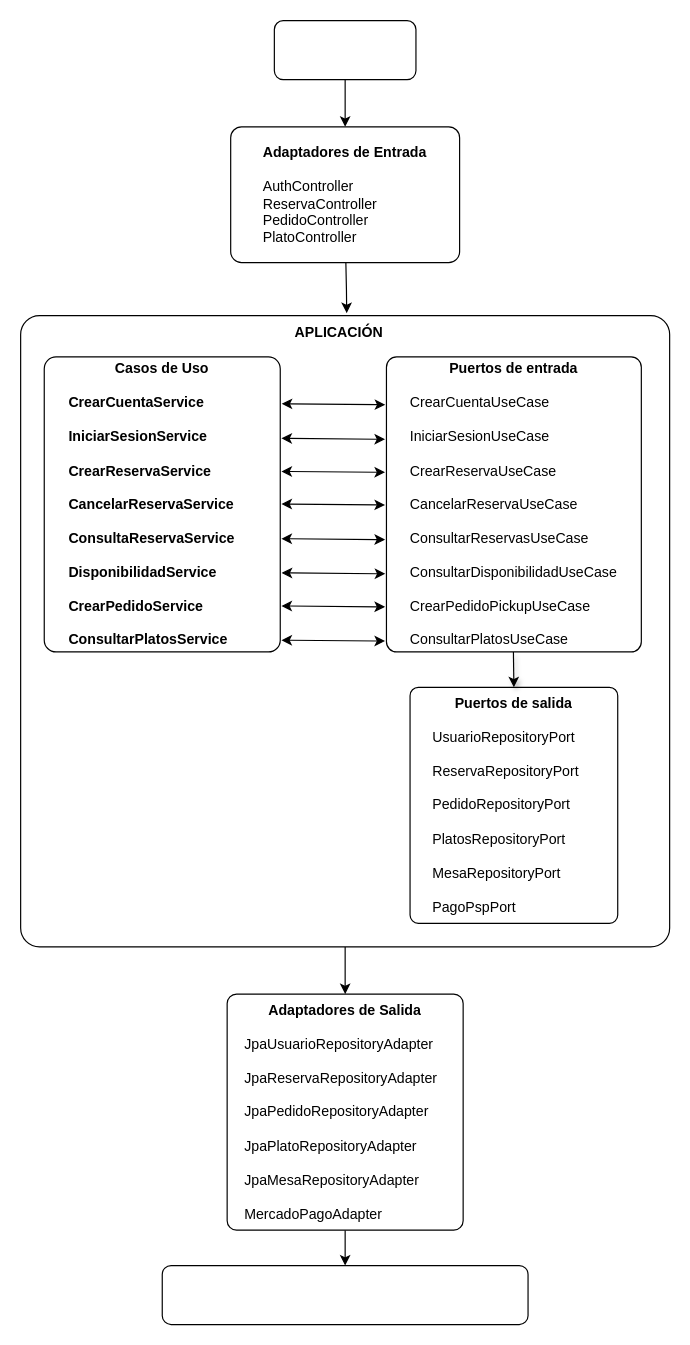
The diagram is 690 pixels wide and 1345 high, and some of its shapes have lost their labels. The shapes that lost their labels are listed below. From the top down, each one's centre as x and y in pixels, then its label:
At point 344,49: "Clientes Web (HTML, CSS)".
At point 344,1294: "MySQL (XAMPP) Tablas: usuarios, reservas, pedidos, platos, mesas".
